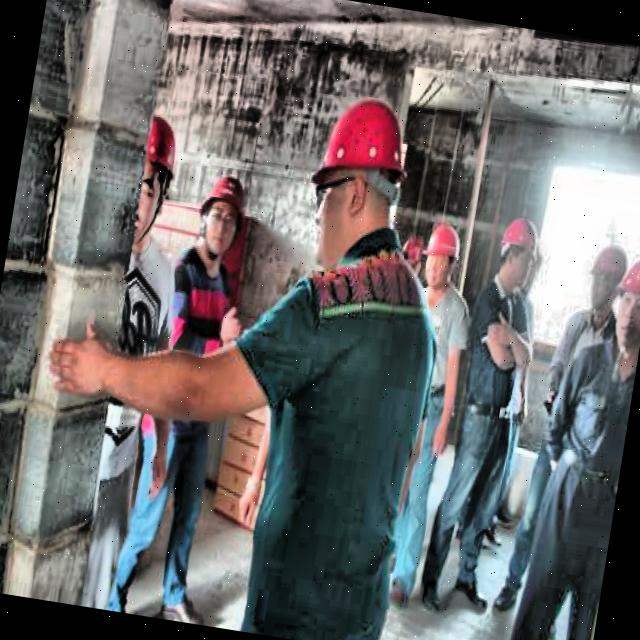helmet: (298, 88, 416, 276), (128, 106, 184, 258), (192, 170, 249, 266), (491, 211, 542, 293), (581, 240, 630, 320), (607, 247, 640, 365), (417, 216, 465, 294), (398, 232, 429, 280)
